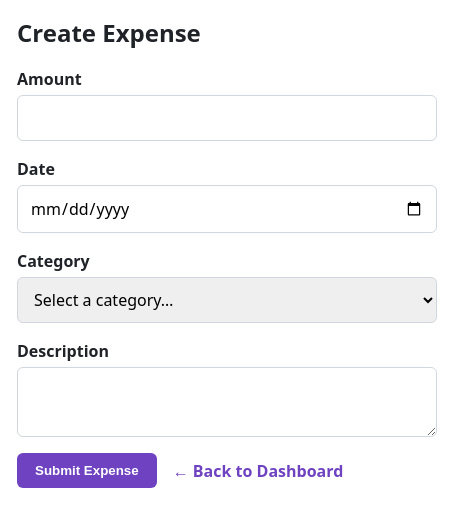
Scenario: Create Expense flow › rejects a non-positive amount
This screenshot has width=454, height=531.
In the number field labelled "Amount": (227, 118) [17,95,437,141], type "0"
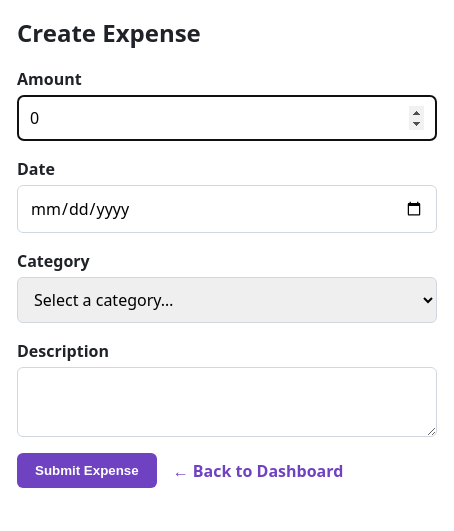
In the date field labelled "Date": (227, 209) [17,185,437,233], type "2024-01-15"
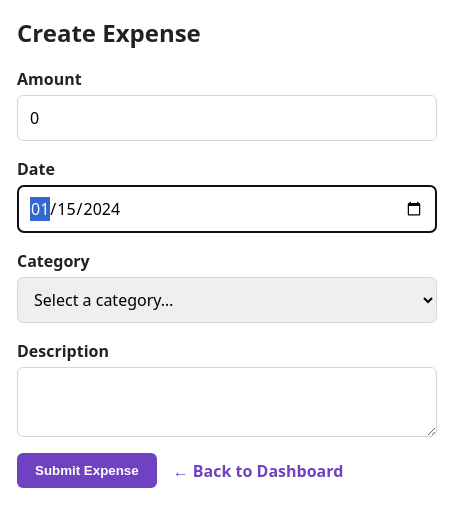
Select "Travel" in the dropdown labelled "Category": (227, 300) [17,277,437,323]
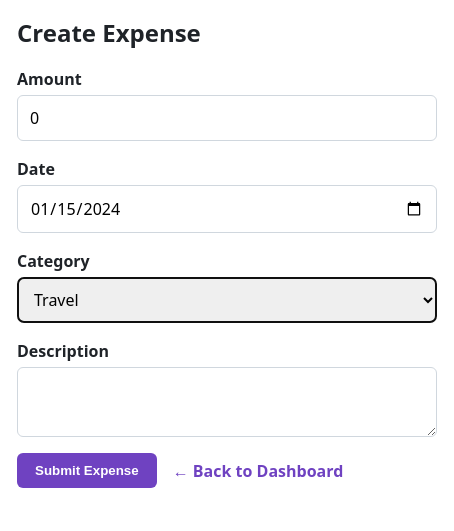
In the text box labelled "Description": (227, 402) [17,367,437,437], type "Taxi to airport"
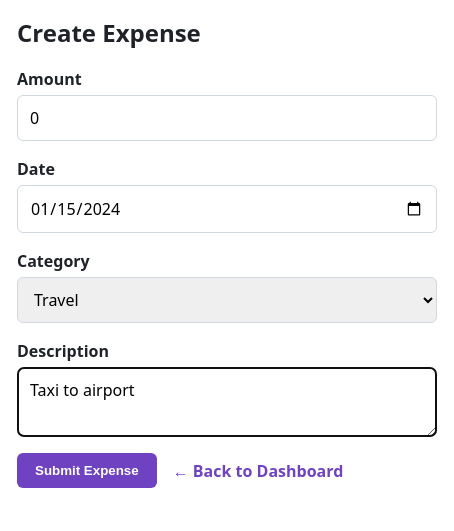
Click the button "Submit Expense": (87, 470) [17,453,157,488]
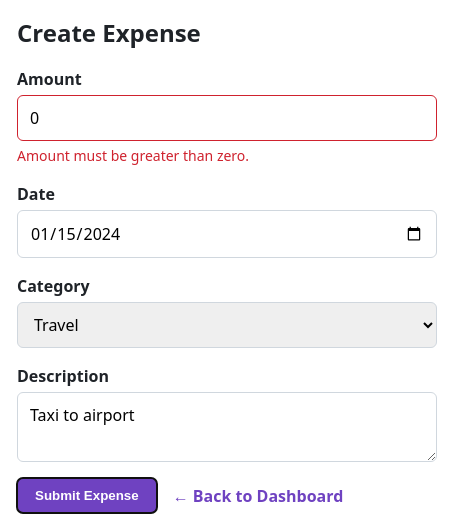
expect the heading "Create Expense" is shown: met, box [17,16,201,49]
expect the text "Amount must be greater than zero." is shown: met, box [17,146,249,165]
